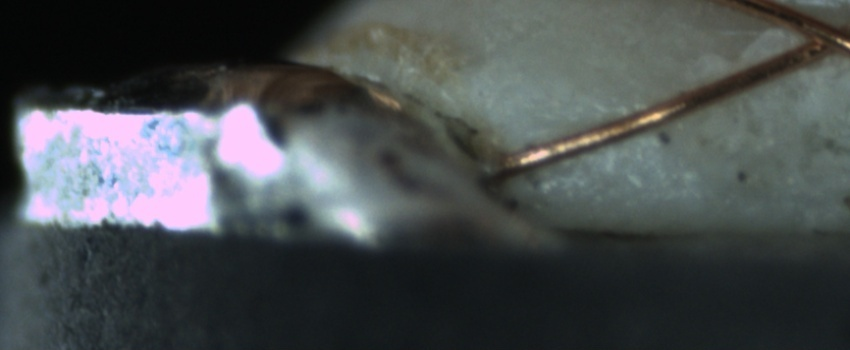CL: (774, 4, 850, 68)
